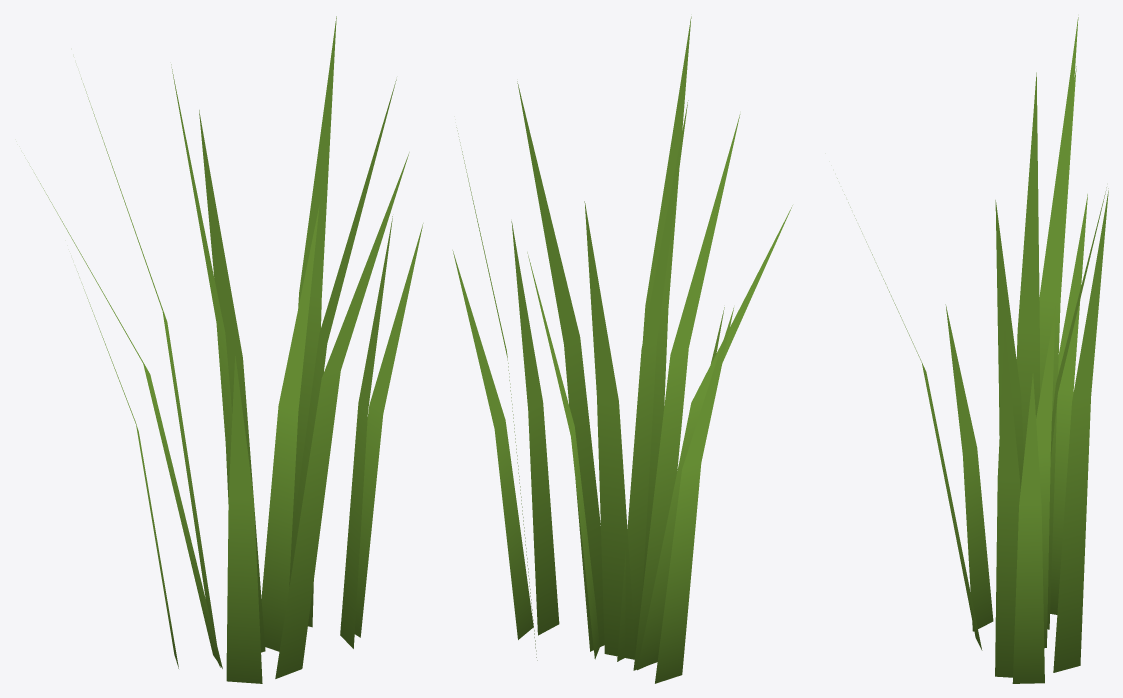
Rendered from grass_tuft.glb.
3 renders of one model, left to right at view 1: azimuth 30°, elevation 25°; view 2: azimuth 150°, elevation 25°; view 3: azimuth 270°, elevation 25°, orthographic. The views are drawn at different scales.
Parts seen in each view (by area): view 1: grass_tuft; view 2: grass_tuft; view 3: grass_tuft.
Boxes of the visible parts, left/top/right/bottom form: grass_tuft: left=24, top=16, right=423, bottom=683; grass_tuft: left=452, top=16, right=792, bottom=683; grass_tuft: left=837, top=17, right=1108, bottom=683.
Bounding box in the file's own units: 0.4378 × 0.689 × 0.3199.
